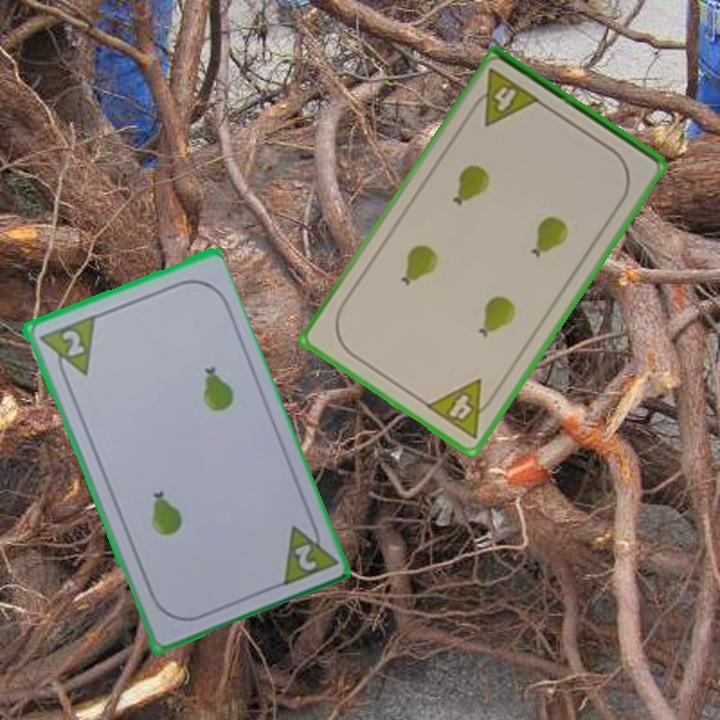2p: (276, 513, 338, 590), (57, 325, 87, 359)
4p: (422, 375, 502, 442), (465, 64, 543, 130)
